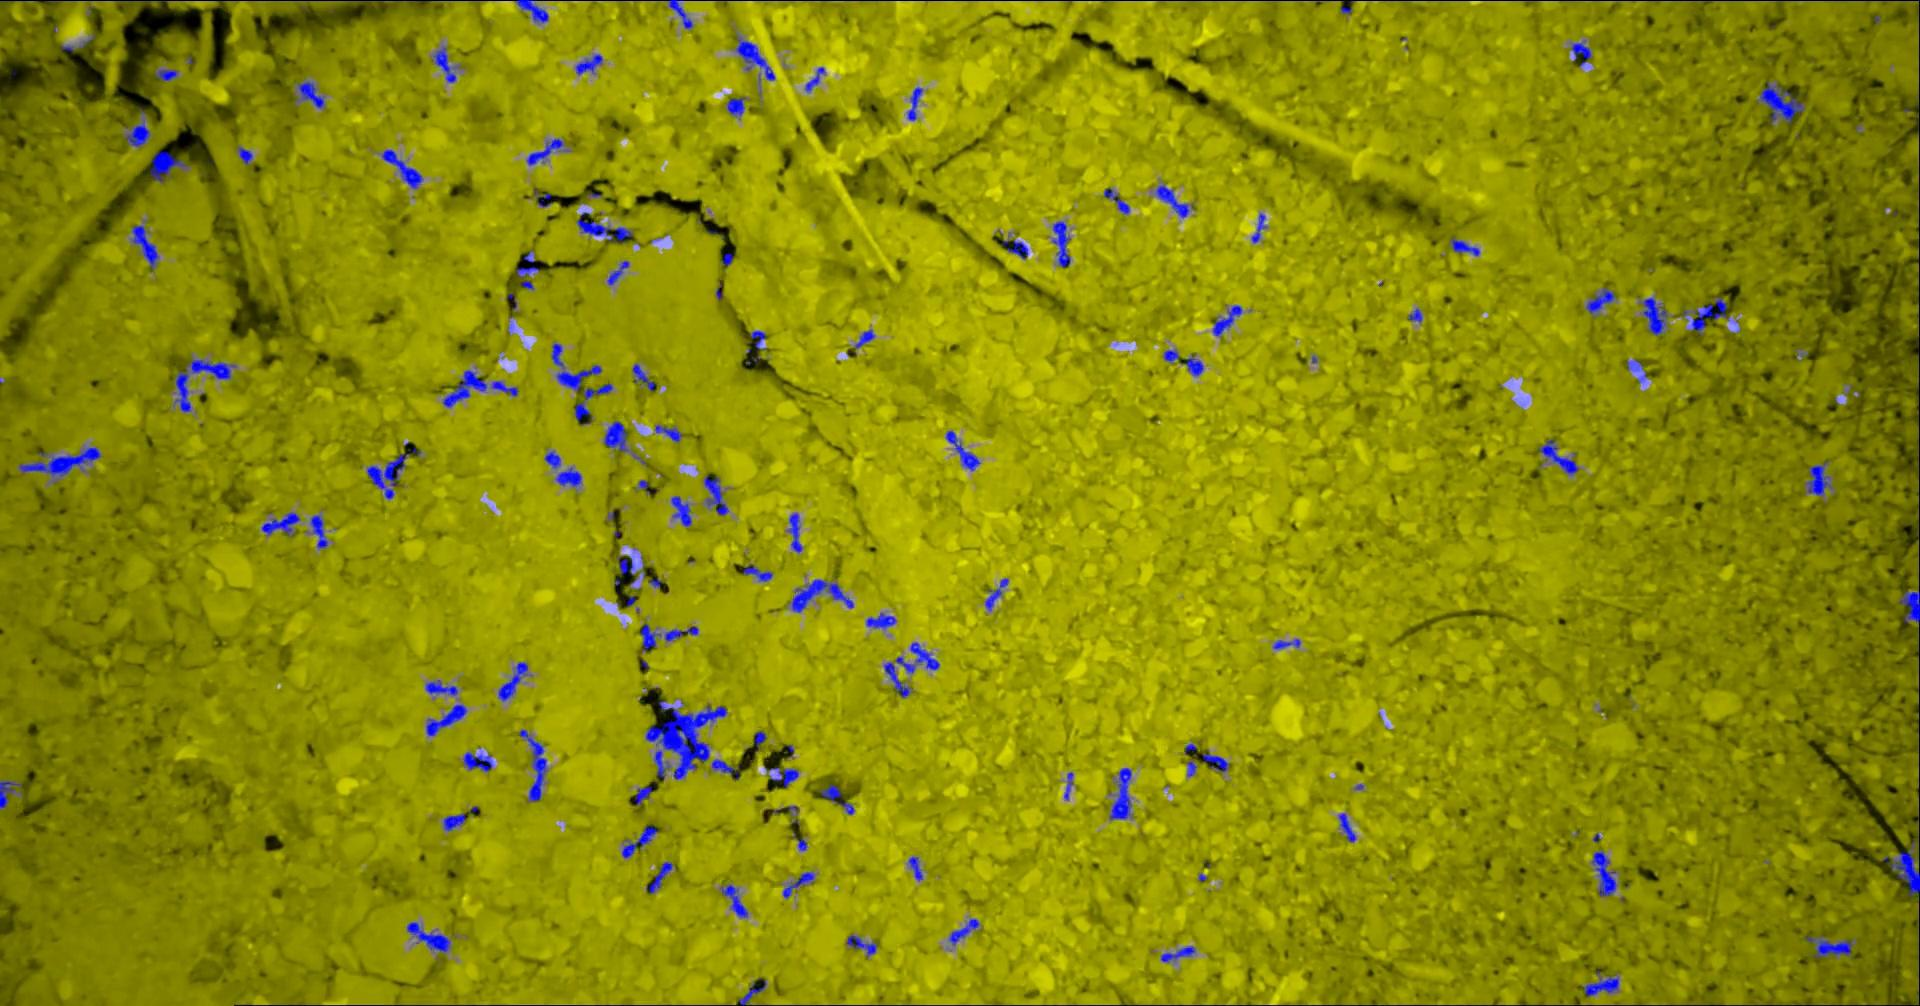ant: (1882, 807, 1919, 902), (174, 359, 235, 412), (883, 641, 938, 697), (18, 447, 102, 483), (442, 370, 518, 406), (551, 343, 601, 391), (791, 579, 853, 612), (518, 729, 546, 800), (1759, 81, 1804, 124), (366, 453, 409, 498), (735, 36, 775, 80), (577, 211, 631, 243), (639, 622, 698, 650), (381, 149, 422, 188), (1690, 296, 1730, 335), (945, 431, 980, 470), (1538, 439, 1578, 474), (425, 704, 467, 735), (406, 921, 450, 951), (1898, 587, 1919, 650), (497, 661, 527, 701), (149, 150, 187, 182), (1154, 185, 1192, 217), (1109, 767, 1131, 819), (131, 225, 157, 269), (1591, 850, 1617, 895), (819, 782, 855, 814), (621, 826, 657, 857), (526, 138, 568, 165), (1641, 297, 1667, 335), (1804, 935, 1851, 956), (703, 474, 728, 514), (1211, 304, 1242, 335), (1806, 460, 1831, 495), (516, 250, 538, 290), (430, 46, 455, 83), (262, 512, 300, 535), (1051, 221, 1070, 265), (645, 861, 672, 893), (721, 884, 747, 917), (782, 871, 814, 897), (1583, 973, 1618, 996), (603, 420, 629, 451), (984, 578, 1008, 610), (516, 0, 549, 23), (295, 81, 323, 108), (1585, 287, 1614, 312), (949, 918, 978, 944), (846, 935, 877, 956), (124, 119, 150, 146), (738, 979, 764, 1005), (668, 0, 692, 28), (1103, 188, 1129, 213), (764, 767, 797, 786), (670, 495, 691, 526), (1201, 749, 1229, 771), (0, 780, 22, 808), (310, 514, 328, 547), (1449, 236, 1479, 255), (632, 363, 654, 390), (463, 751, 491, 771), (711, 758, 739, 779), (789, 513, 803, 553), (1570, 41, 1591, 66), (905, 86, 922, 119), (555, 466, 582, 486), (1161, 946, 1195, 962), (607, 260, 629, 285), (804, 66, 824, 91), (575, 55, 602, 74), (425, 680, 457, 695), (653, 749, 669, 779), (654, 424, 681, 442), (1251, 212, 1266, 243), (582, 384, 612, 399), (865, 612, 895, 627), (1338, 813, 1355, 841), (742, 567, 772, 580), (1183, 353, 1203, 375), (442, 813, 465, 831), (1007, 240, 1027, 259), (574, 400, 589, 426), (907, 856, 922, 880), (726, 97, 744, 116), (533, 188, 551, 207), (855, 329, 874, 347), (634, 785, 651, 804), (617, 555, 634, 575), (749, 330, 766, 349), (543, 450, 560, 467), (1272, 638, 1300, 648), (750, 730, 764, 751), (1063, 771, 1073, 799), (237, 146, 251, 164), (155, 69, 177, 80), (1407, 307, 1422, 323), (1163, 349, 1178, 362), (1625, 359, 1642, 370), (1186, 761, 1196, 776), (721, 251, 731, 265), (116, 0, 168, 1)
